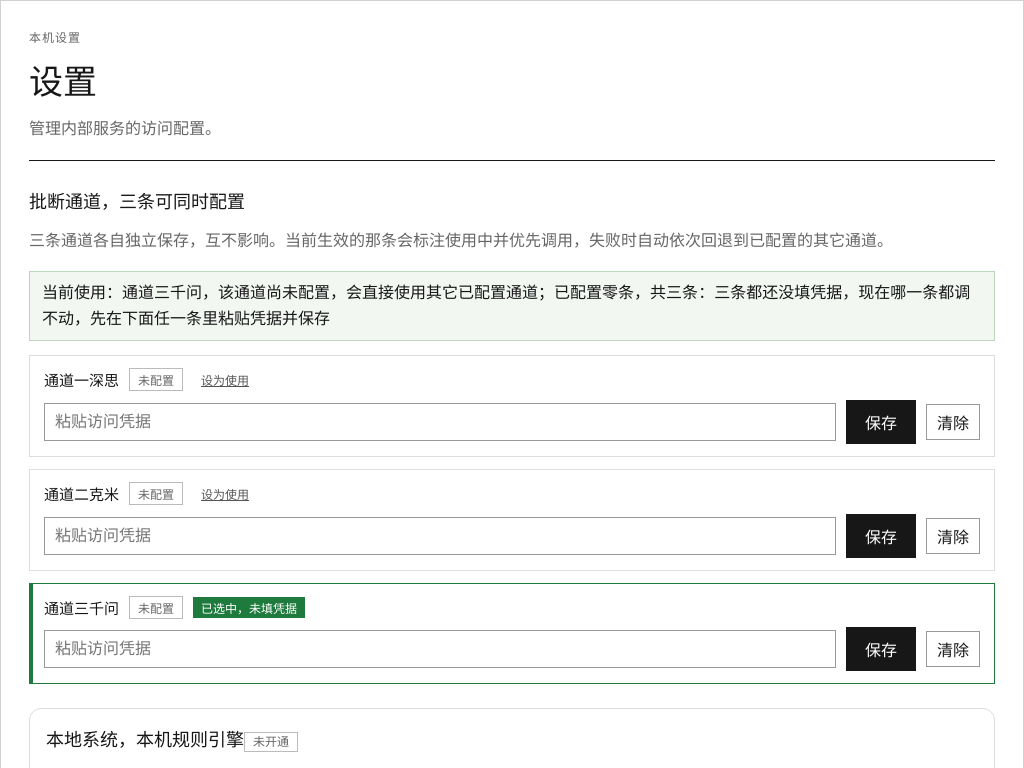
Test case: SettingsPage › overwrites an existing credential and confirms it
The width and height of the screenshot is (1024, 768).
Type "first-key" into the password field named "通道三千问访问凭据" at [440, 649], box [44,630,836,668]
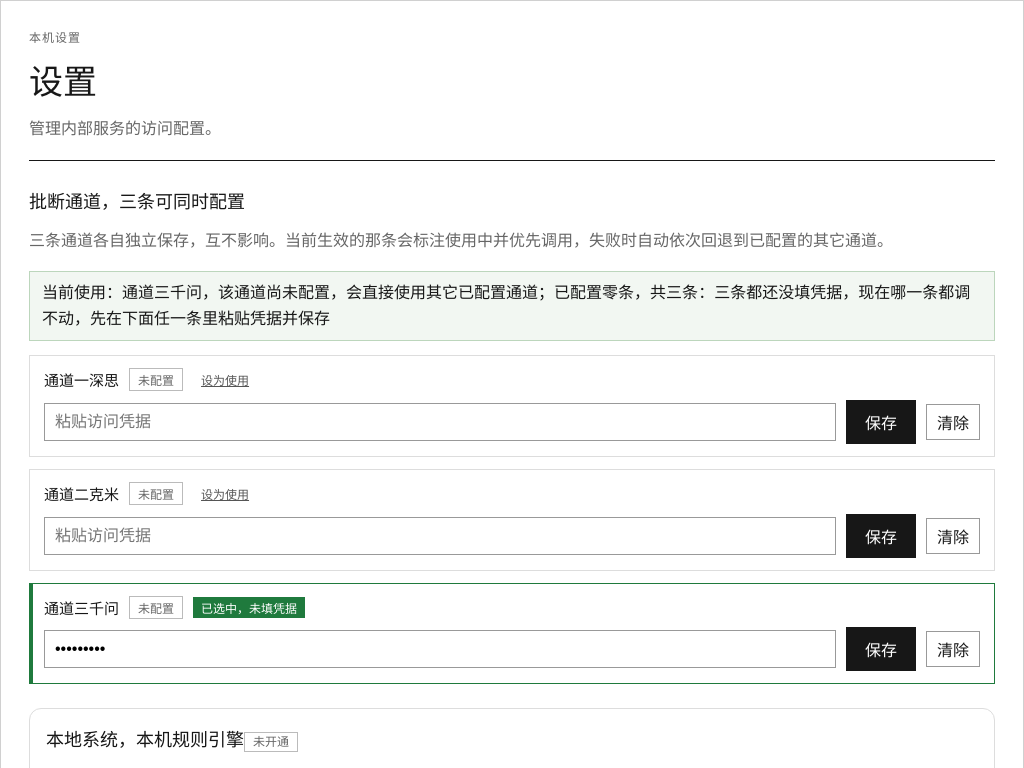
Click the 3rd button "保存" at [881, 649], box [846,627,916,671]
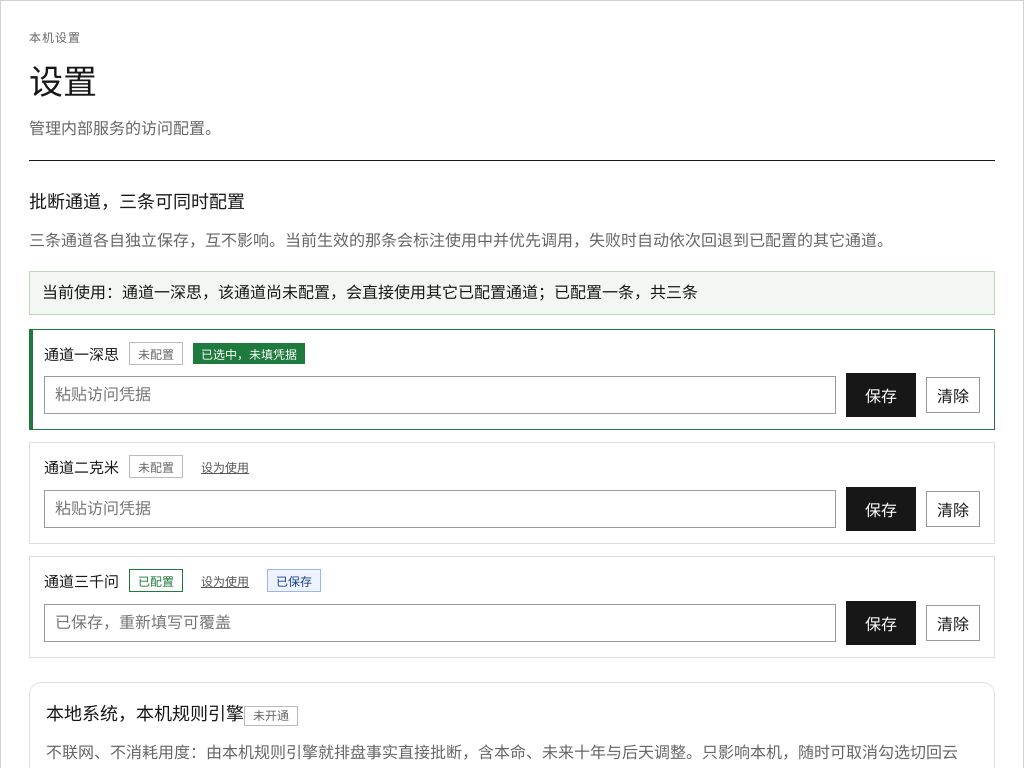
expect the text "已保存" is shown: met, box [267,570,321,592]
expect the password field named "通道三千问访问凭据" is empty: met
再次输入新凭据 → 覆盖提示
Type "second-key" into the password field named "通道三千问访问凭据" at [440, 623], box [44,604,836,642]
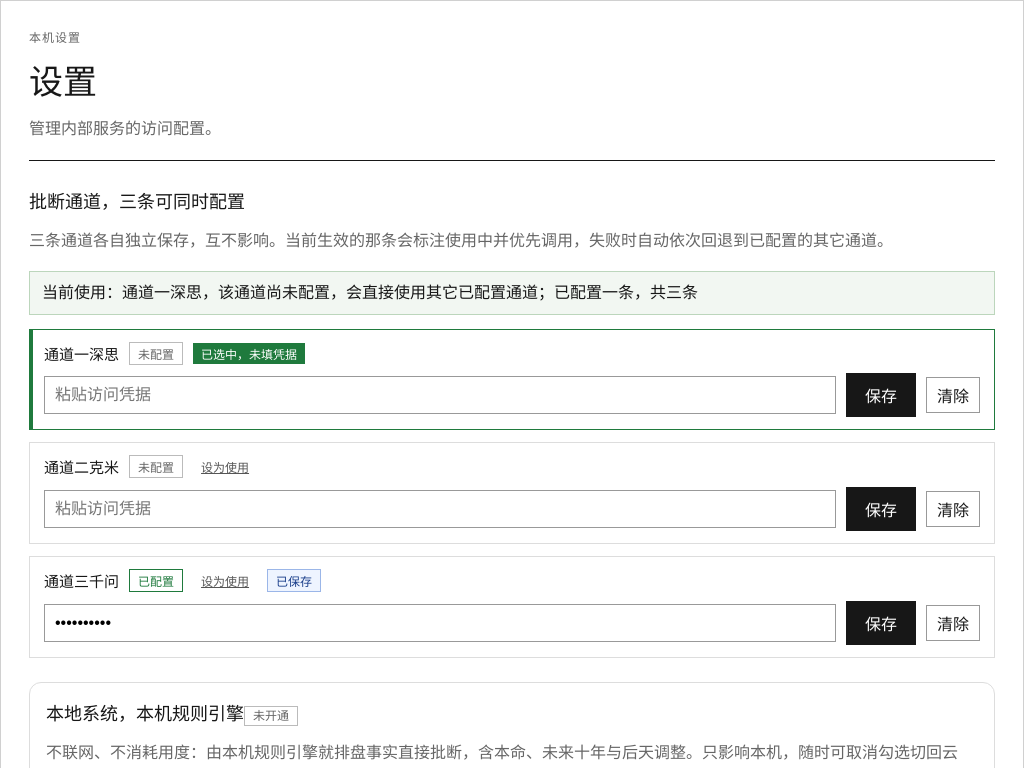
Click the 3rd button "保存" at [881, 623], box [846,601,916,645]
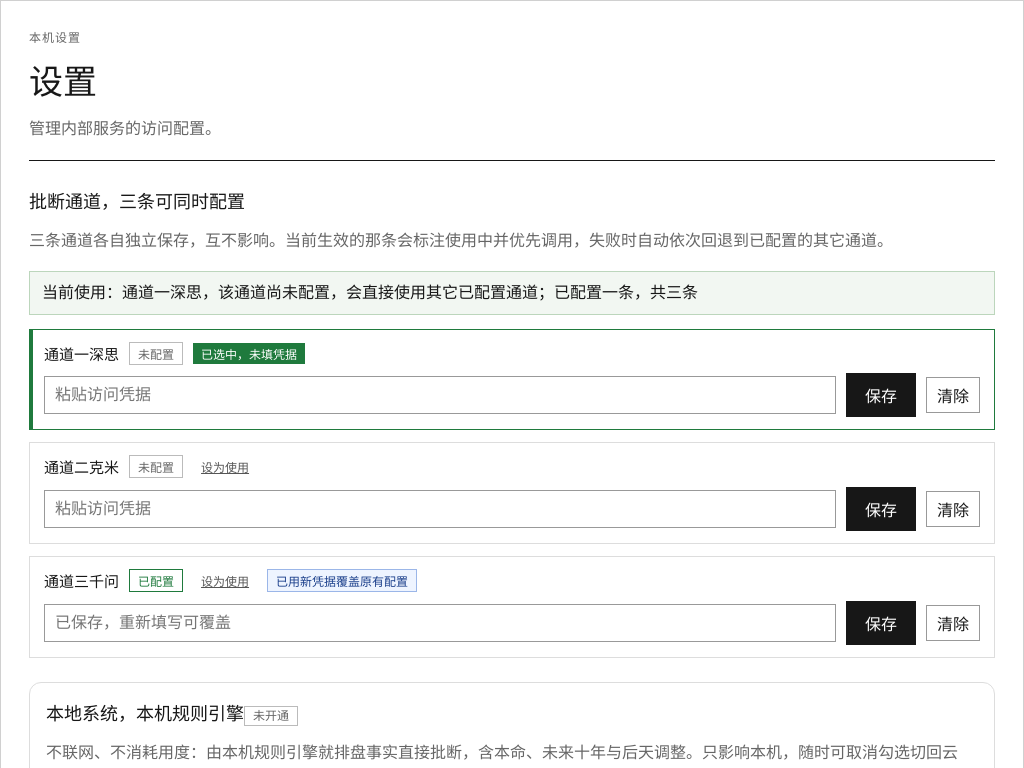
expect the text "已用新凭据覆盖原有配置" is shown: met, box [267,570,417,592]
